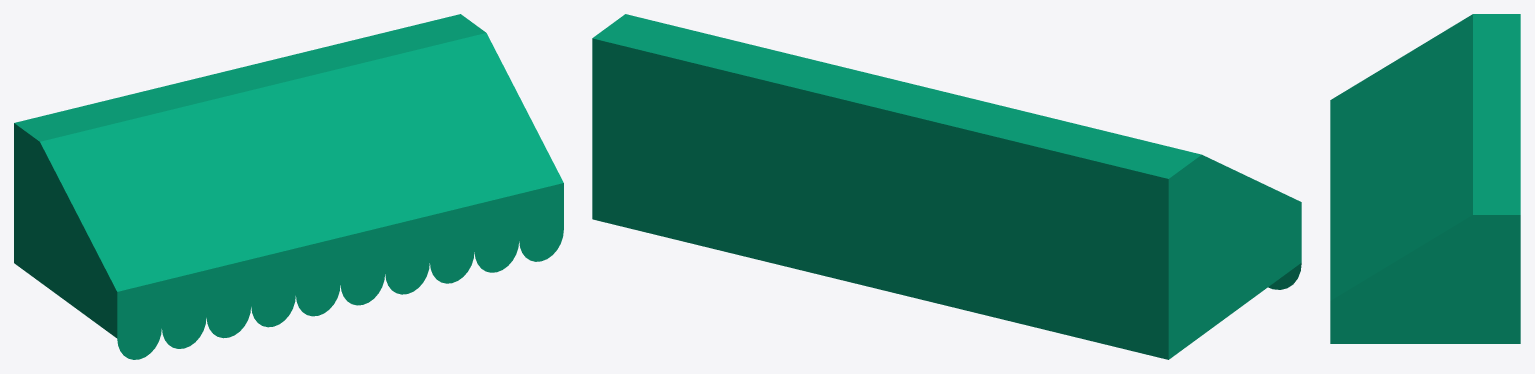
File: awning1.obj
3 views of the same model, side by side, from view 1: azimuth 30°, elevation 25°; view 2: azimuth 150°, elevation 25°; view 3: azimuth 270°, elevation 25° (orthographic). The views are drawn at different scales.
Parts seen in each view (by area): view 1: mergedBlocks; view 2: mergedBlocks; view 3: mergedBlocks.
Part boxes in pixels (x1,y1,x2,y2): mergedBlocks: [14, 14, 563, 359]; mergedBlocks: [592, 14, 1301, 359]; mergedBlocks: [1330, 14, 1520, 343].
Bounding box in the file's own units: 1 × 0.3561 × 0.4.
